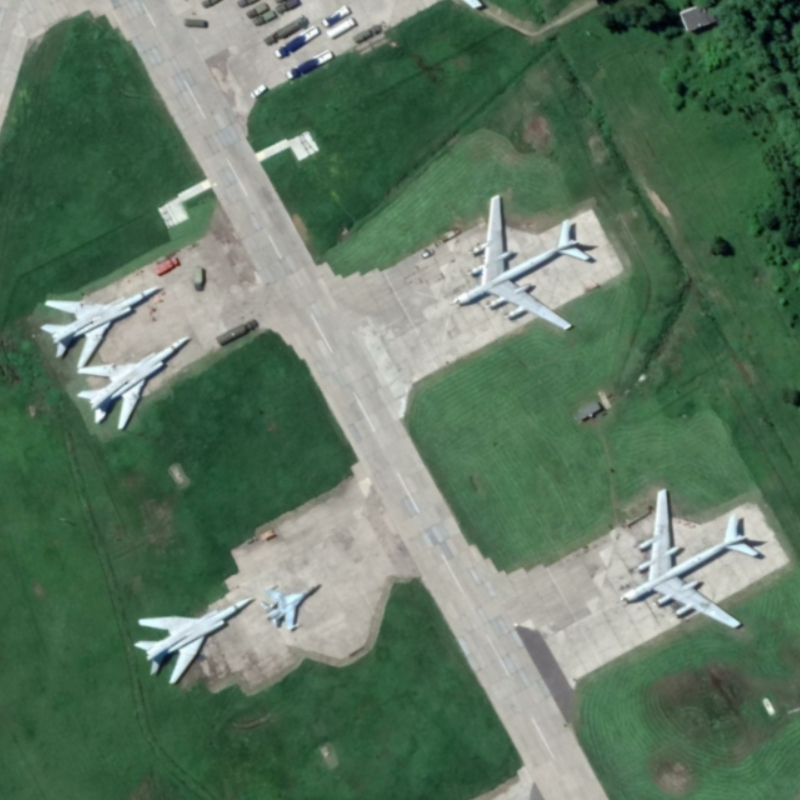A1: (259, 582, 322, 632)
A12: (75, 334, 192, 432), (39, 284, 164, 373), (132, 596, 255, 686)
A17: (619, 486, 760, 631), (455, 193, 591, 332)
